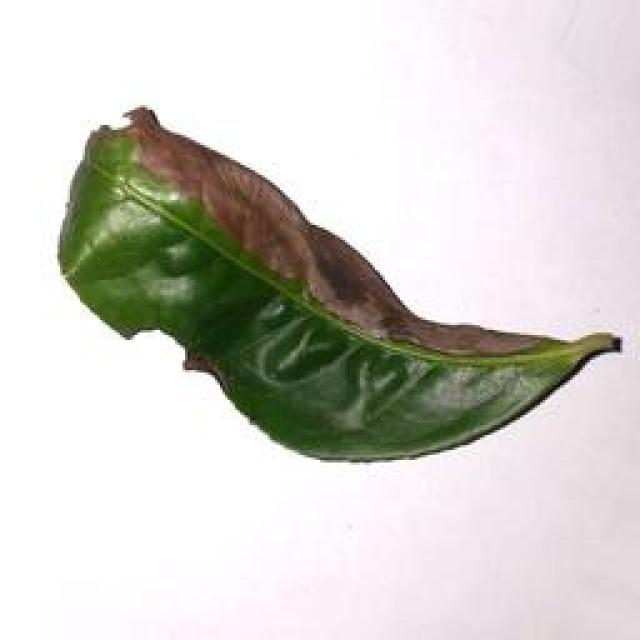Brown Blight: (45, 97, 640, 475)
